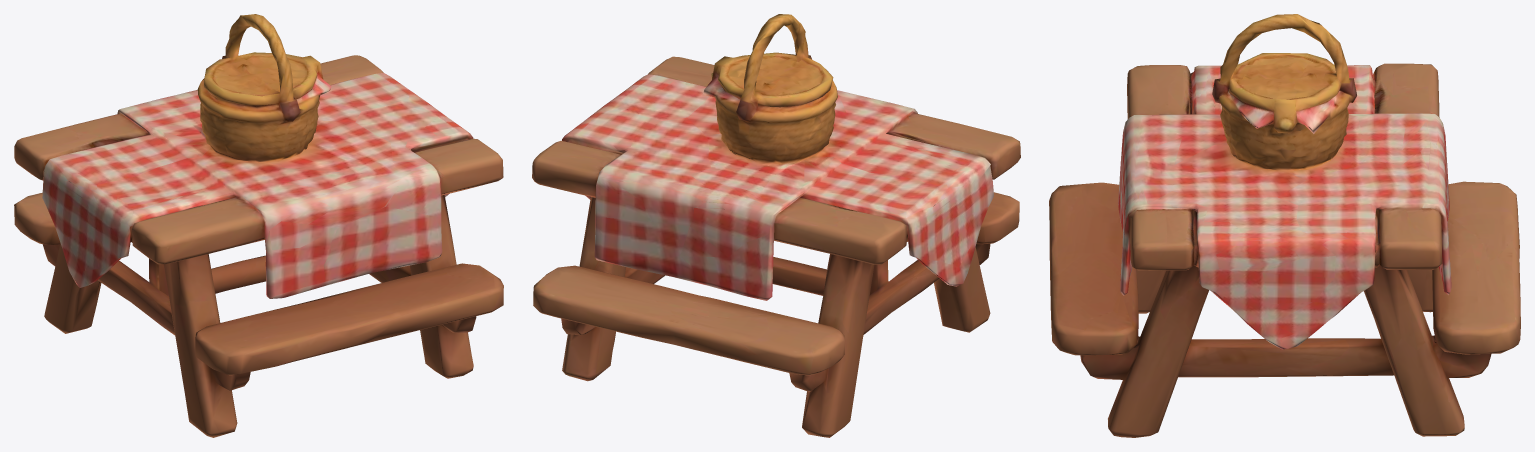
File: picnic_table.glb
3 views of the same model, side by side, from view 1: azimuth 30°, elevation 25°; view 2: azimuth 150°, elevation 25°; view 3: azimuth 270°, elevation 25° (orthographic). The views are drawn at different scales.
Parts seen in each view (by area): view 1: tripo_node_f34fbf09-fadf-48af-bf07-ae51f8e17012; view 2: tripo_node_f34fbf09-fadf-48af-bf07-ae51f8e17012; view 3: tripo_node_f34fbf09-fadf-48af-bf07-ae51f8e17012.
Part boxes in pixels (left/top/right/bottom): tripo_node_f34fbf09-fadf-48af-bf07-ae51f8e17012: left=14, top=14, right=503, bottom=437; tripo_node_f34fbf09-fadf-48af-bf07-ae51f8e17012: left=532, top=14, right=1020, bottom=437; tripo_node_f34fbf09-fadf-48af-bf07-ae51f8e17012: left=1049, top=14, right=1520, bottom=437.
Size of the model in its own units: 1.39 by 1.2 by 1.45.
1 material, 1 textured.
